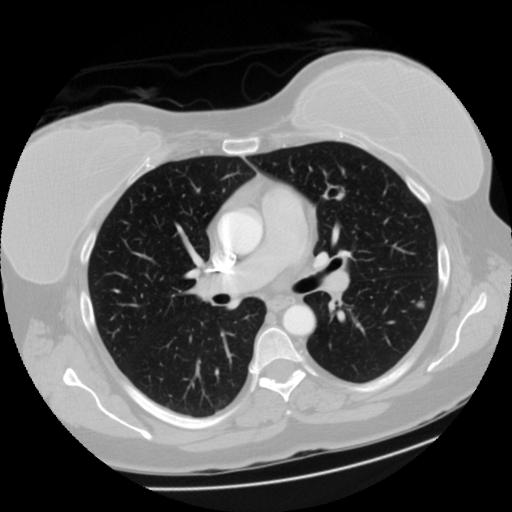nodule: (329, 186, 347, 204)
